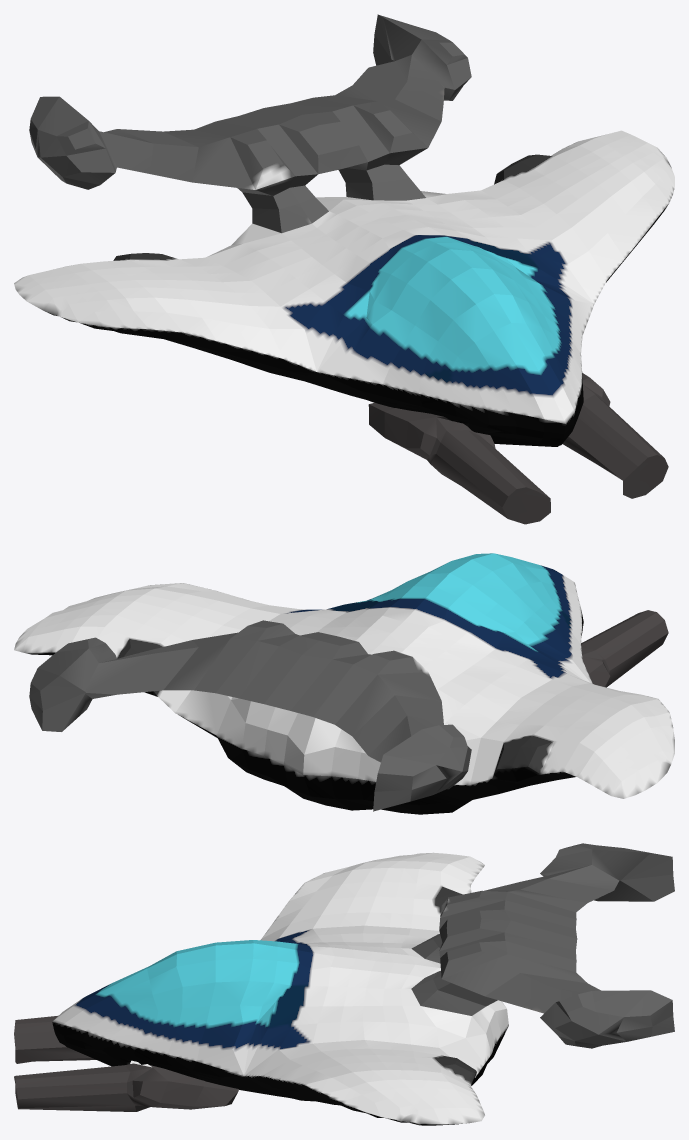
Rendered from ShipOutline.FBX.
3 views of the same model, one above another, from view 1: azimuth 30°, elevation 25°; view 2: azimuth 150°, elevation 25°; view 3: azimuth 270°, elevation 25° (orthographic). The views are drawn at different scales.
Visible parts, largest first — view 1: Object002; view 2: Object002; view 3: Object002.
Boxes of the visible parts, box(x1,y1,x2,y2) form: Object002: box(14, 14, 674, 524); Object002: box(14, 553, 674, 814); Object002: box(14, 843, 674, 1125).
Size of the model in its own units: 373 by 107 by 390.
